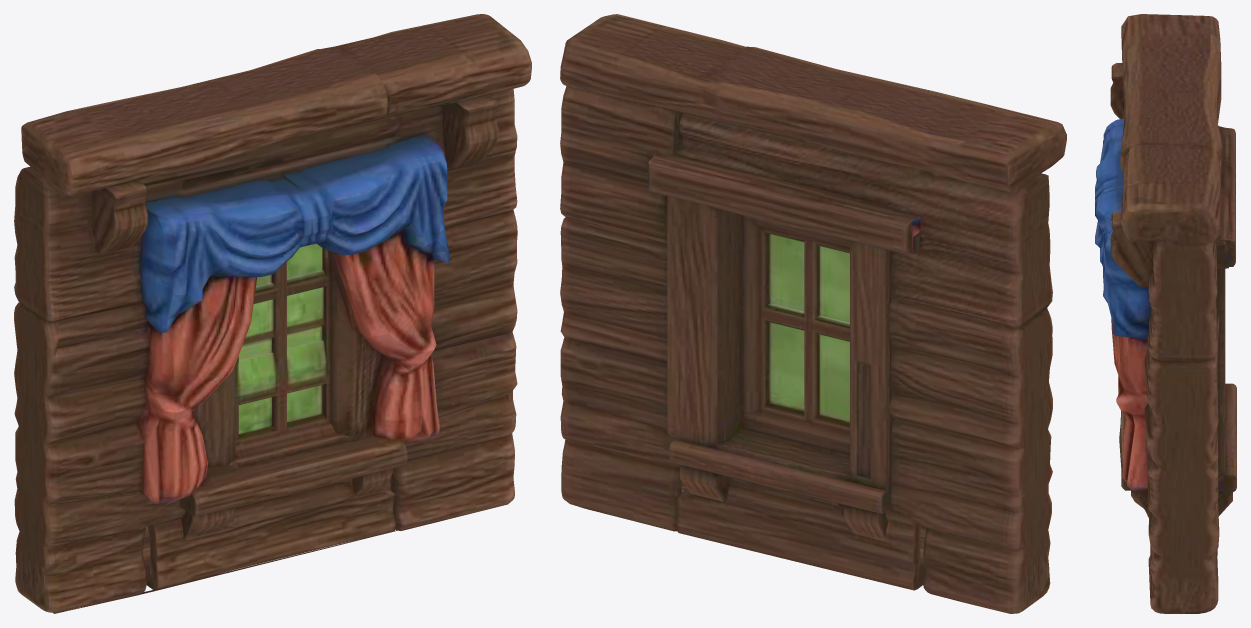
The model's file is wall_logcabin.glb.
3 views of the same model, side by side, from view 1: azimuth 30°, elevation 25°; view 2: azimuth 150°, elevation 25°; view 3: azimuth 270°, elevation 25° (orthographic). The views are drawn at different scales.
Size of the model in its own units: 1.89 by 1.83 by 0.5714.
Materials: 1 (1 with a texture image).
